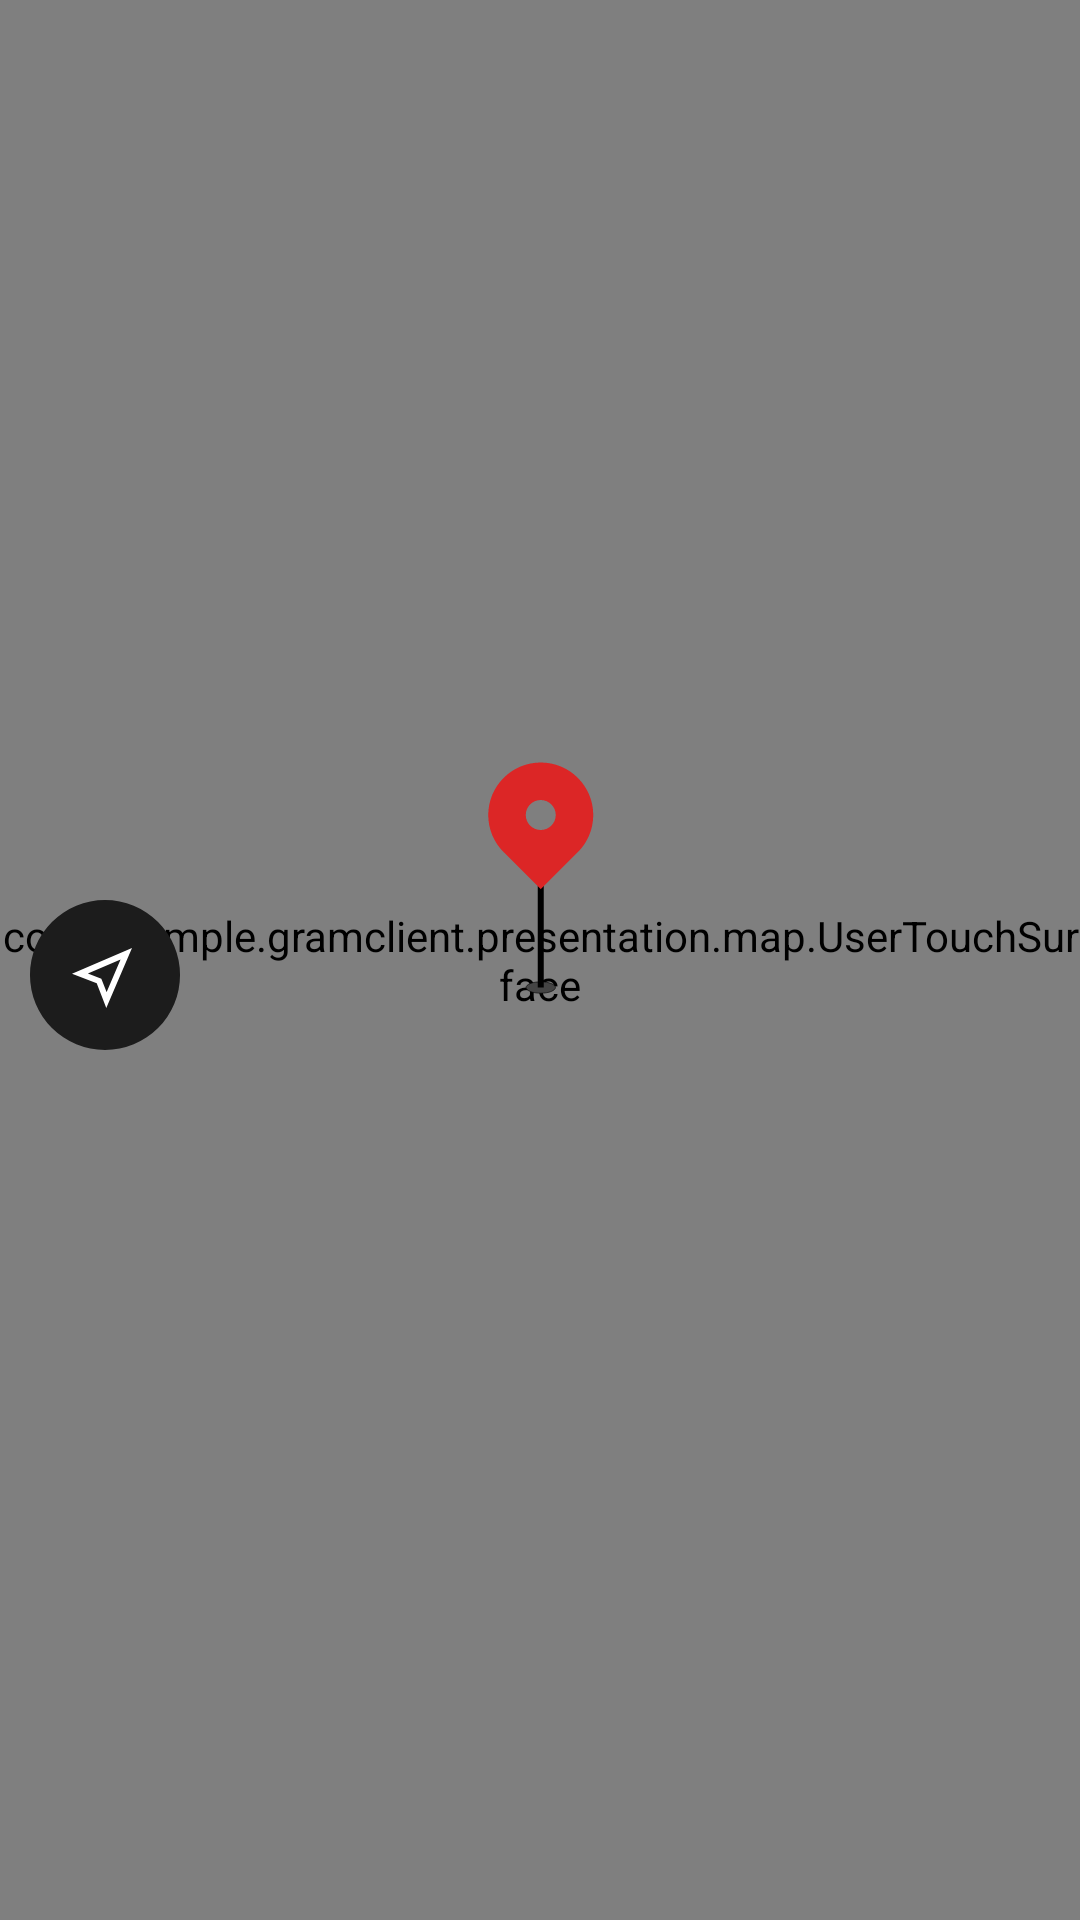

Icons on this 1080×1920 Android screen, each with the point to tap as (x=x, y=y):
get addres marker: (x=540, y=878)
